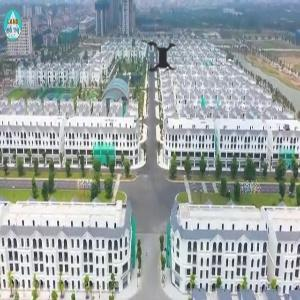drone: (121, 19, 200, 98)
